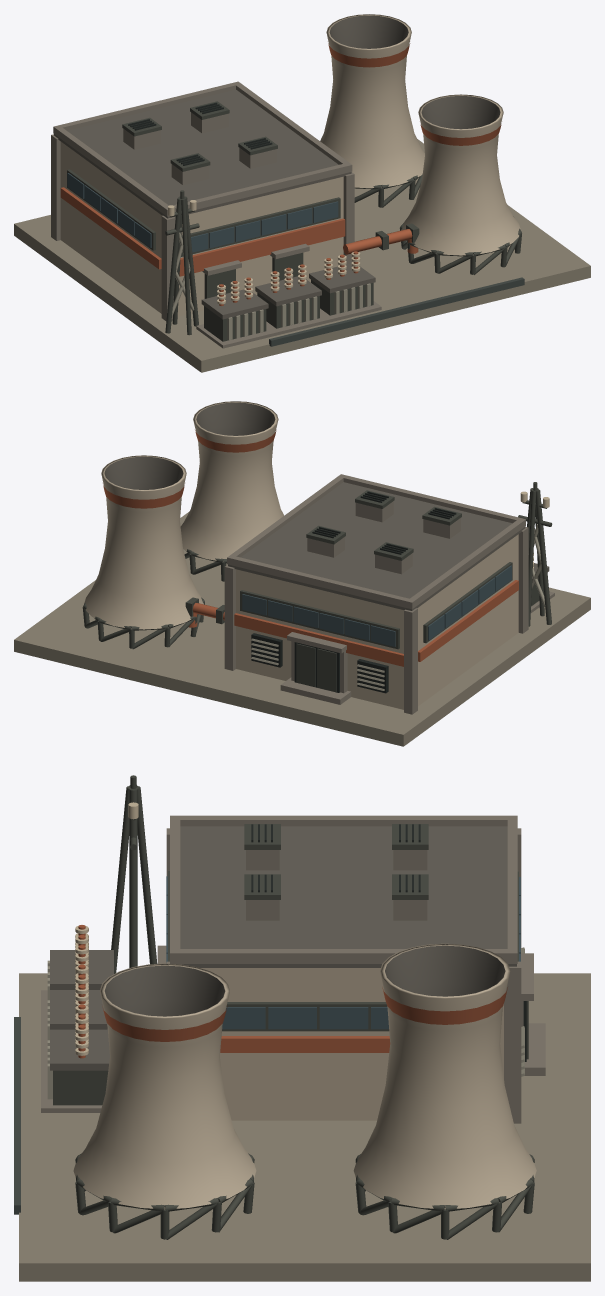
File: prototype.glb
The picture shows the model from 3 angles, top to bottom: view 1: azimuth 30°, elevation 25°; view 2: azimuth 150°, elevation 25°; view 3: azimuth 270°, elevation 25°; orthographic projection. The views are drawn at different scales.
Parts seen in each view (by area): view 1: generator_surface_02, generator_surface_00, generator_surface_03, generator_surface_04, generator_surface_06, generator_surface_05, generator_surface_07, generator_surface_09, generator_surface_01, generator_surface_10, generator_surface_08; view 2: generator_surface_02, generator_surface_00, generator_surface_03, generator_surface_04, generator_surface_06, generator_surface_05, generator_surface_07, generator_surface_08, generator_surface_09; view 3: generator_surface_00, generator_surface_02, generator_surface_03, generator_surface_04, generator_surface_06, generator_surface_05, generator_surface_07, generator_surface_10, generator_surface_01, generator_surface_08, generator_surface_09.
Boxes of the visible parts, left/top/right/bottom form: generator_surface_02: left=60, top=14, right=520, bottom=316; generator_surface_00: left=14, top=139, right=590, bottom=372; generator_surface_03: left=54, top=15, right=500, bottom=319; generator_surface_04: left=51, top=81, right=381, bottom=348; generator_surface_06: left=67, top=101, right=521, bottom=341; generator_surface_05: left=60, top=43, right=501, bottom=305; generator_surface_07: left=67, top=173, right=338, bottom=252; generator_surface_09: left=172, top=232, right=370, bottom=340; generator_surface_01: left=269, top=277, right=524, bottom=346; generator_surface_10: left=168, top=200, right=360, bottom=304; generator_surface_08: left=128, top=102, right=272, bottom=165; generator_surface_02: left=84, top=401, right=518, bottom=709; generator_surface_00: left=14, top=512, right=590, bottom=746; generator_surface_03: left=104, top=402, right=549, bottom=610; generator_surface_04: left=224, top=474, right=554, bottom=714; generator_surface_06: left=82, top=482, right=552, bottom=692; generator_surface_05: left=103, top=430, right=518, bottom=666; generator_surface_07: left=242, top=565, right=511, bottom=646; generator_surface_08: left=251, top=491, right=456, bottom=693; generator_surface_09: left=251, top=524, right=545, bottom=690; generator_surface_00: left=19, top=973, right=590, bottom=1281; generator_surface_02: left=73, top=943, right=536, bottom=1209; generator_surface_03: left=50, top=826, right=516, bottom=1070; generator_surface_04: left=41, top=815, right=545, bottom=1123; generator_surface_06: left=53, top=775, right=534, bottom=1239; generator_surface_05: left=78, top=925, right=507, bottom=1058; generator_surface_07: left=166, top=876, right=520, bottom=1029; generator_surface_10: left=75, top=802, right=138, bottom=1055; generator_surface_01: left=14, top=1017, right=20, bottom=1214; generator_surface_08: left=251, top=824, right=526, bottom=1061; generator_surface_09: left=47, top=947, right=524, bottom=1099.
Size of the model in its own units: 12 by 4.81 by 10.09.
